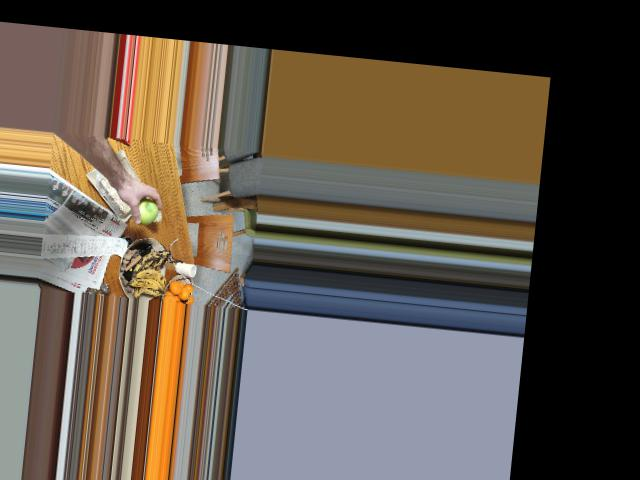apple: (129, 194, 163, 226)
